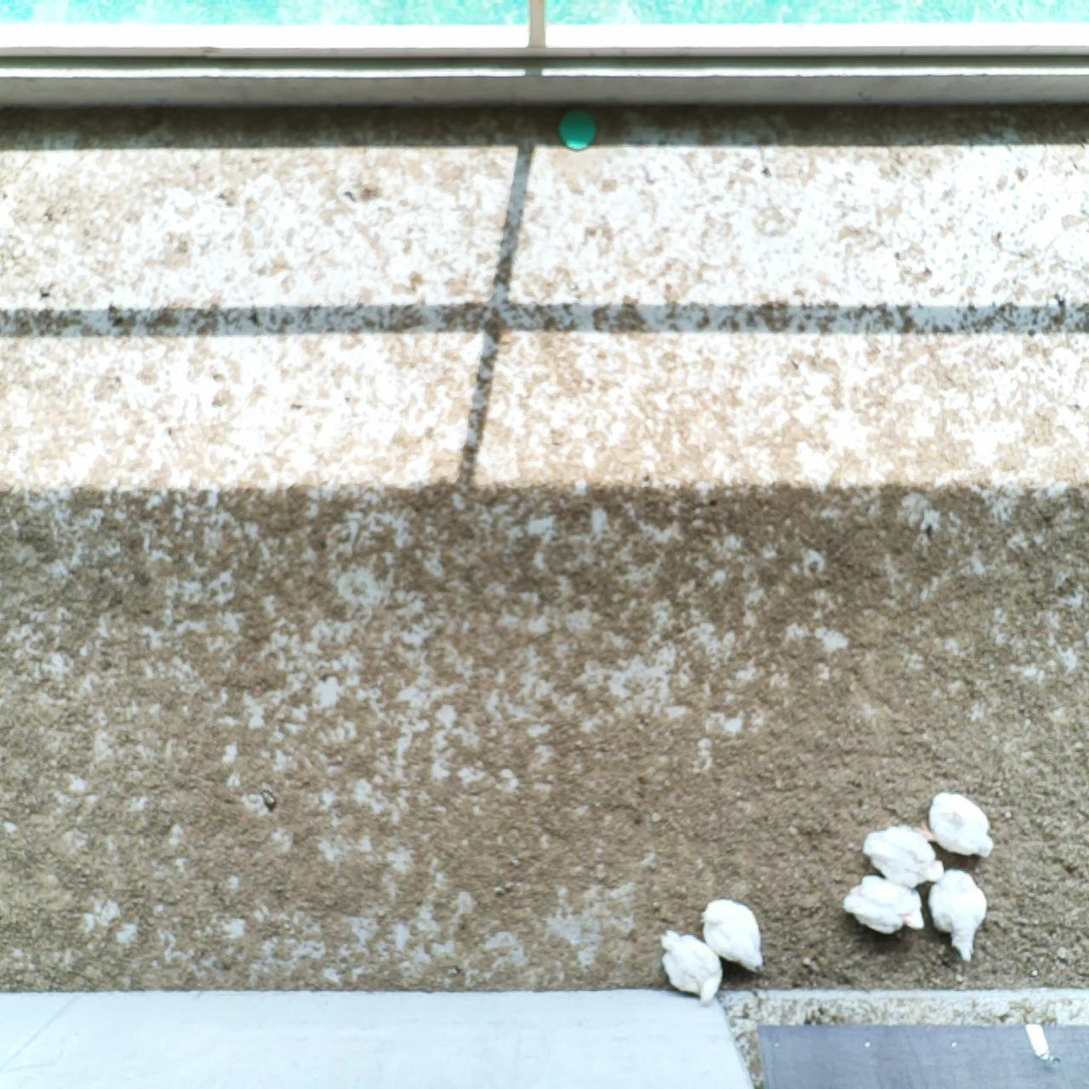chicken: (925, 867, 991, 964), (914, 788, 997, 864), (860, 824, 947, 890), (842, 872, 927, 938), (658, 925, 725, 1008), (699, 896, 767, 976)
